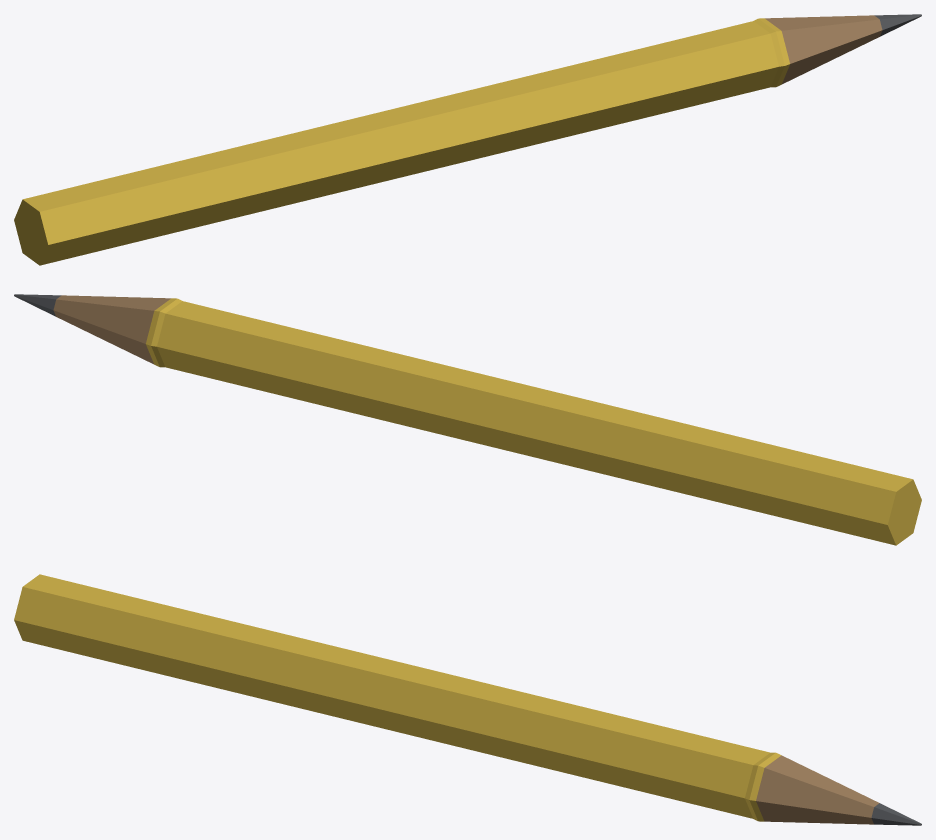
The model's file is pencil_stub.glb.
3 renders of one model, top to bottom at view 1: azimuth 30°, elevation 25°; view 2: azimuth 150°, elevation 25°; view 3: azimuth 330°, elevation 25°, orthographic.
Parts seen in each view (by area): view 1: pencil_stub; view 2: pencil_stub; view 3: pencil_stub.
Part boxes in pixels (x1,y1,x2,y2): pencil_stub: [14, 14, 921, 265]; pencil_stub: [14, 294, 921, 545]; pencil_stub: [14, 574, 921, 825].
Bounding box in the file's own units: 0.12 × 0.00719 × 0.0083.
